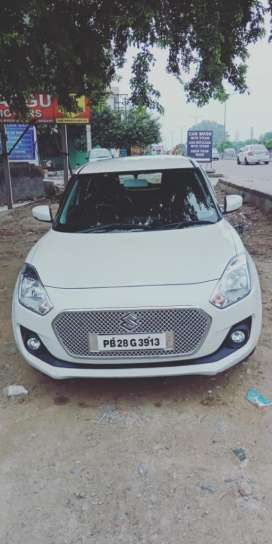nameplate: (100, 334, 164, 351)
